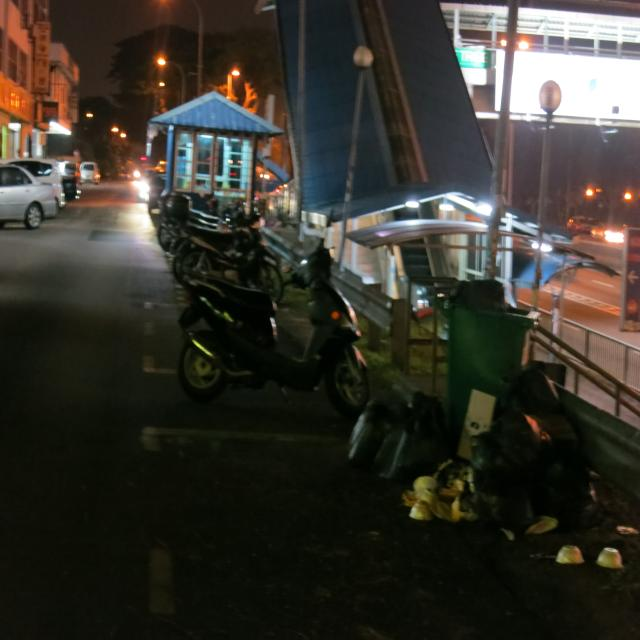Car: (0, 142, 103, 239)
Motorbike: (164, 175, 350, 420)
